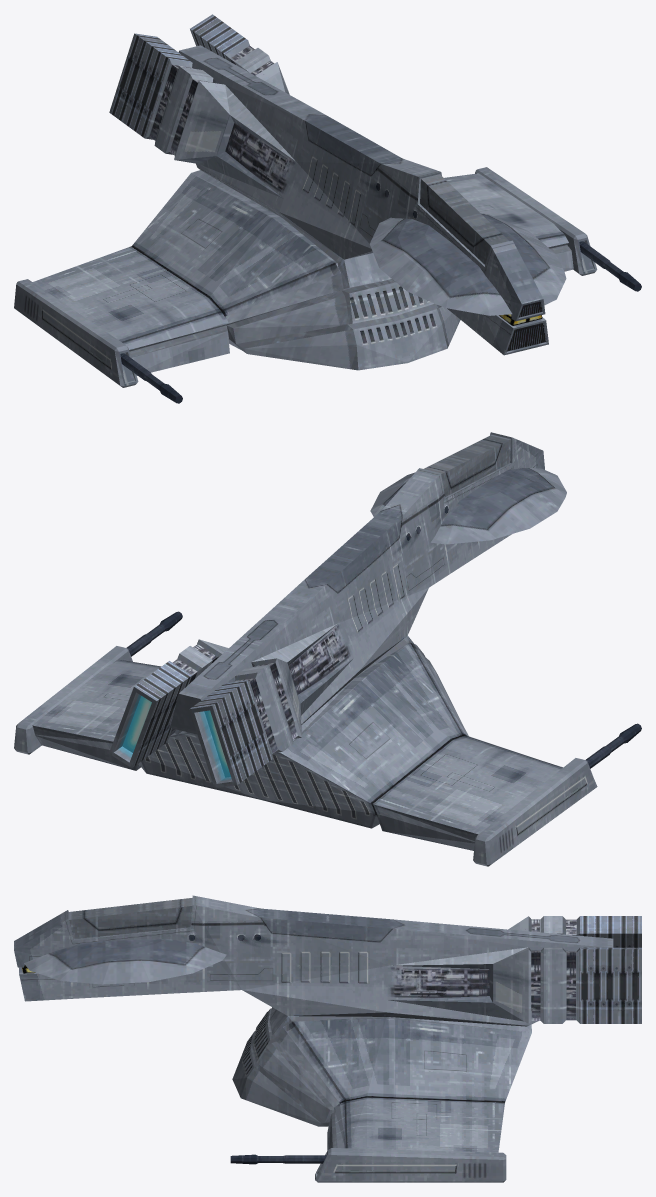
The model's file is Sith_Lander.obj.
3 renders of one model, top to bottom at view 1: azimuth 30°, elevation 25°; view 2: azimuth 150°, elevation 25°; view 3: azimuth 270°, elevation 25°, orthographic. The views are drawn at different scales.
Visible parts, largest first — view 1: Hull; view 2: Hull, Lights; view 3: Hull.
Boxes of the visible parts, x1,y1,x2,y2 form: Hull: (14,14,641,403); Hull: (14,432,641,866); Lights: (122,695,230,777); Hull: (14,895,641,1182).
Size of the model in its own units: 69.84 by 29.14 by 91.11.
